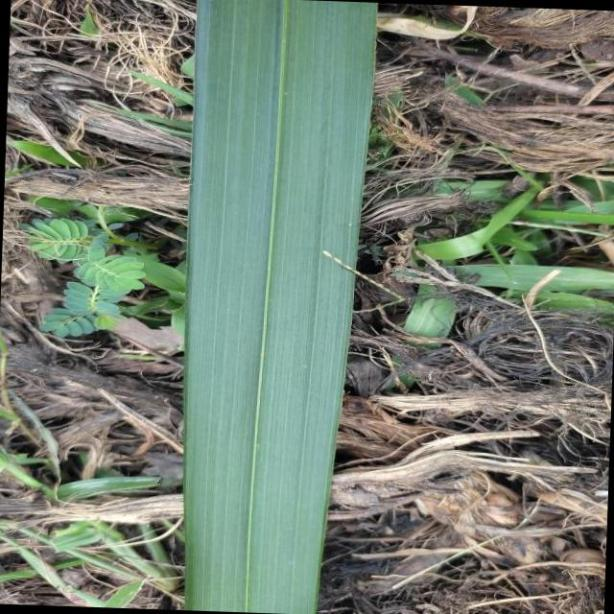Healthy: (186, 0, 377, 614)
